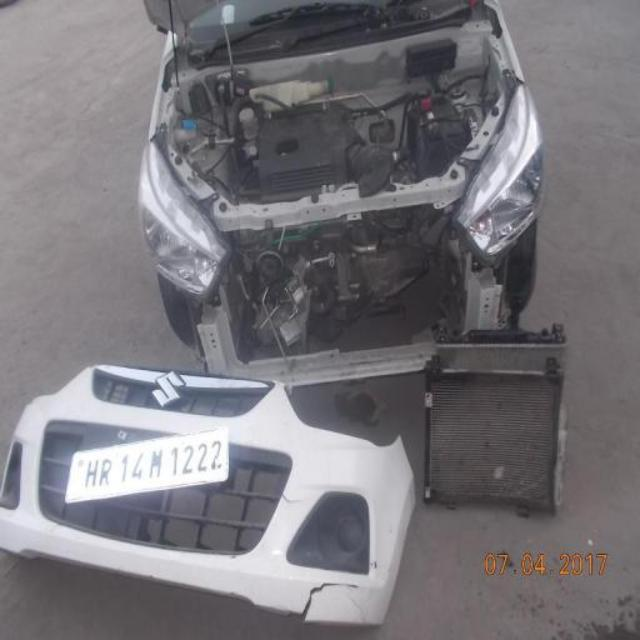no part: (158, 156, 537, 393)
